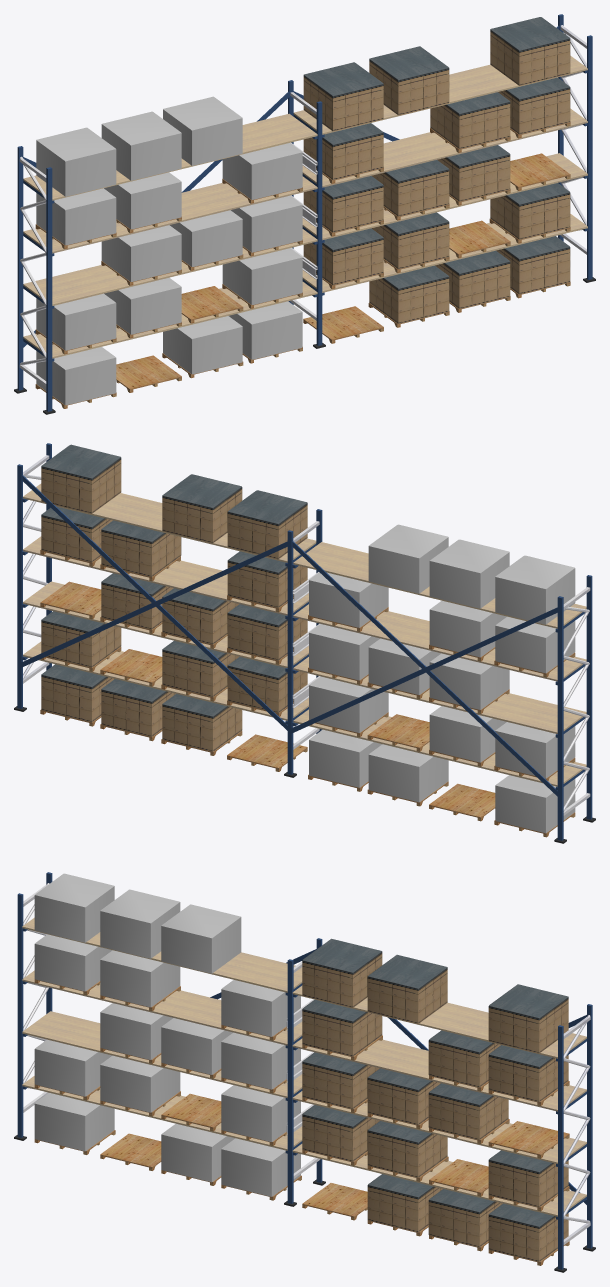
Rendered from BigShelves01Group5.FBX.
3 renders of one model, top to bottom at view 1: azimuth 30°, elevation 25°; view 2: azimuth 150°, elevation 25°; view 3: azimuth 330°, elevation 25°, orthographic.
Parts seen in each view (by area): view 1: Box_Pallet02, Box_Pallet01, BigShelves01, BigShelvesWoodBox; view 2: Box_Pallet02, Box_Pallet01, BigShelves01, BigShelvesWoodBox; view 3: Box_Pallet01, Box_Pallet02, BigShelves01, BigShelvesWoodBox.
Boxes of the visible parts, box(x1,y1,x2,y2) form: Box_Pallet02: box(36, 96, 302, 405); Box_Pallet01: box(303, 17, 570, 323); BigShelves01: box(14, 14, 595, 414); BigShelvesWoodBox: box(35, 122, 570, 408); Box_Pallet02: box(309, 524, 575, 833); Box_Pallet01: box(41, 444, 307, 751); BigShelves01: box(14, 443, 595, 843); BigShelvesWoodBox: box(40, 549, 575, 837); Box_Pallet01: box(302, 938, 568, 1261); Box_Pallet02: box(34, 873, 300, 1196); BigShelves01: box(14, 872, 595, 1272); BigShelvesWoodBox: box(34, 979, 569, 1265).
Bounding box in the file's own units: 699 × 302 × 71.51.
